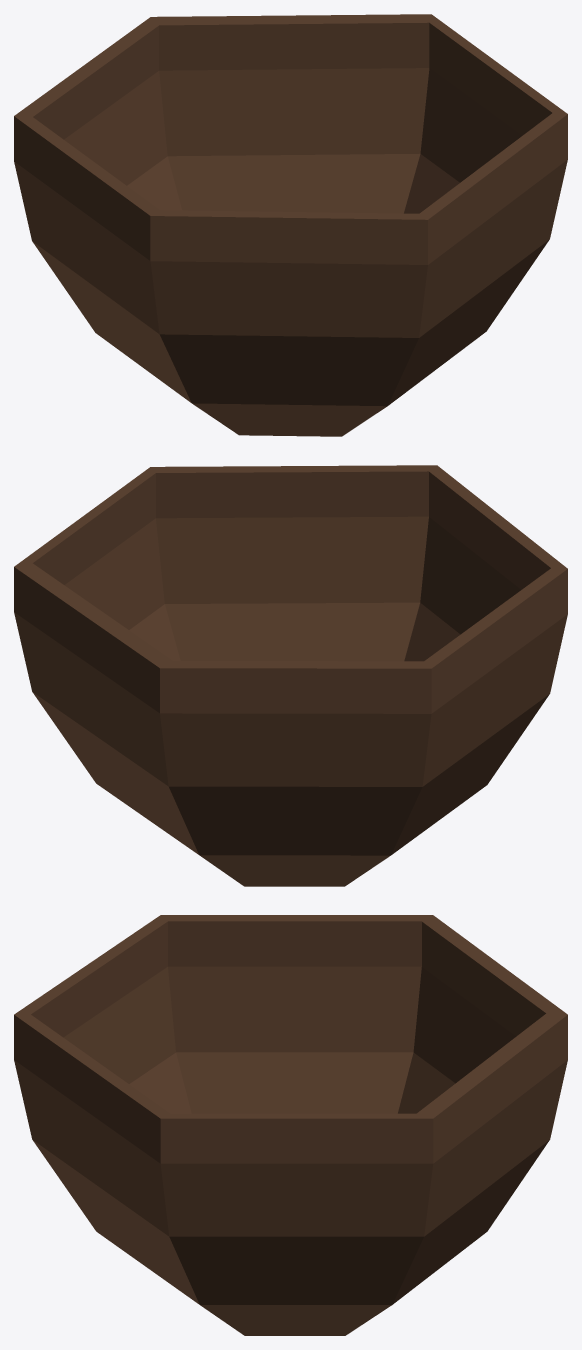
Rendered from cc_brown_bowl_v2.fbx.
The picture shows the model from 3 angles, top to bottom: view 1: azimuth 30°, elevation 25°; view 2: azimuth 150°, elevation 25°; view 3: azimuth 270°, elevation 25°; orthographic projection.
Visible parts, largest first — view 1: Cube; view 2: Cube; view 3: Cube.
Part boxes in pixels (x1,y1,x2,y2): Cube: [14, 14, 567, 436]; Cube: [14, 465, 567, 886]; Cube: [14, 915, 567, 1335].
Size of the model in its own units: 337 by 218 by 388.
